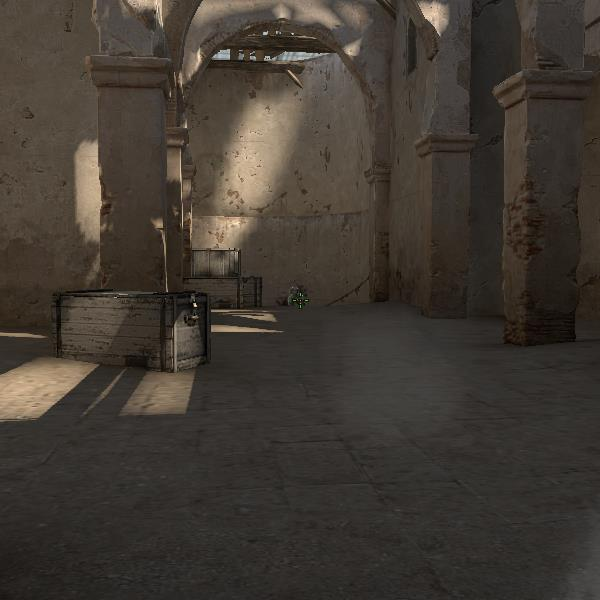ct_body: (279, 287, 310, 304)
ct_head: (289, 287, 300, 298)
